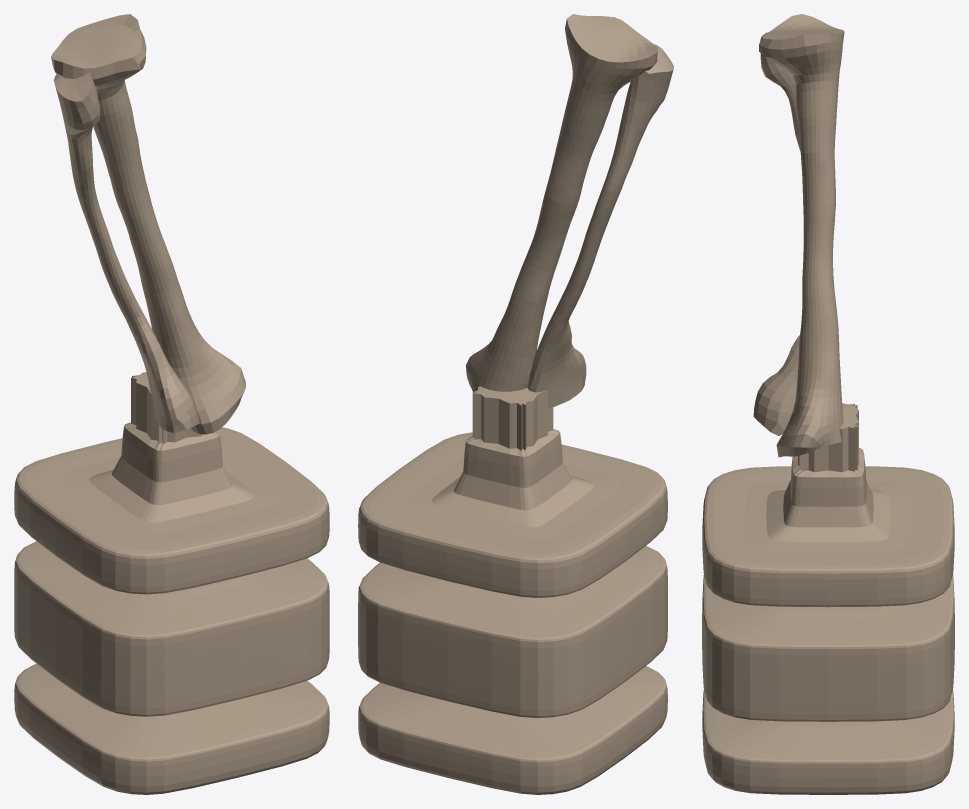
Rendered from TokenPerone.fbx.
3 views of the same model, side by side, from view 1: azimuth 30°, elevation 25°; view 2: azimuth 150°, elevation 25°; view 3: azimuth 270°, elevation 25° (orthographic). The views are drawn at different scales.
Visible parts, largest first — view 1: TokenPerone; view 2: TokenPerone; view 3: TokenPerone.
Boxes of the visible parts, x1,y1,x2,y2 form: TokenPerone: (14,14,329,794); TokenPerone: (358,14,673,794); TokenPerone: (702,14,954,794).
Bounding box in the file's own units: 54.07 × 150 × 49.87.
